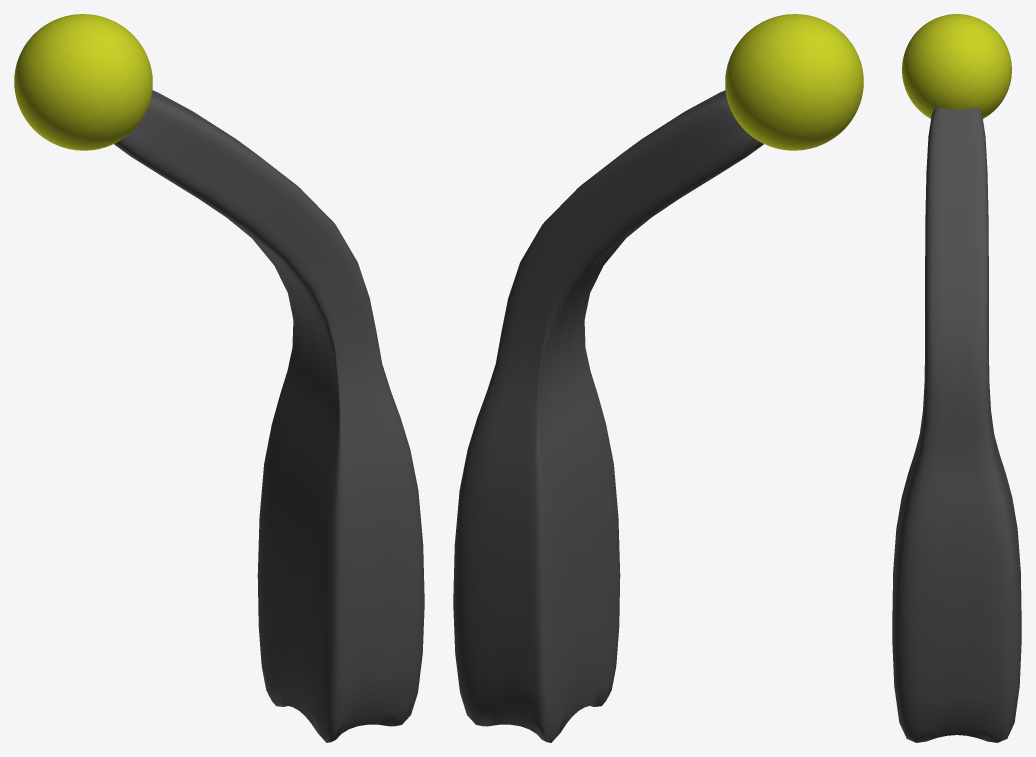
File: Lights 6.fbx
3 renders of one model, left to right at view 1: azimuth 30°, elevation 25°; view 2: azimuth 150°, elevation 25°; view 3: azimuth 270°, elevation 25°, orthographic. The views are drawn at different scales.
Parts seen in each view (by area): view 1: Cube, Sphere; view 2: Cube, Sphere; view 3: Cube, Sphere.
Part boxes in pixels (x1=…): Cube: x1=114, y1=90, x2=424, y2=742; Sphere: x1=14, y1=14, x2=152, y2=150; Cube: x1=453, y1=90, x2=763, y2=742; Sphere: x1=725, y1=14, x2=863, y2=150; Cube: x1=892, y1=107, x2=1021, y2=742; Sphere: x1=902, y1=14, x2=1011, y2=118.
Bounding box in the file's own units: 303 × 590 × 113.
